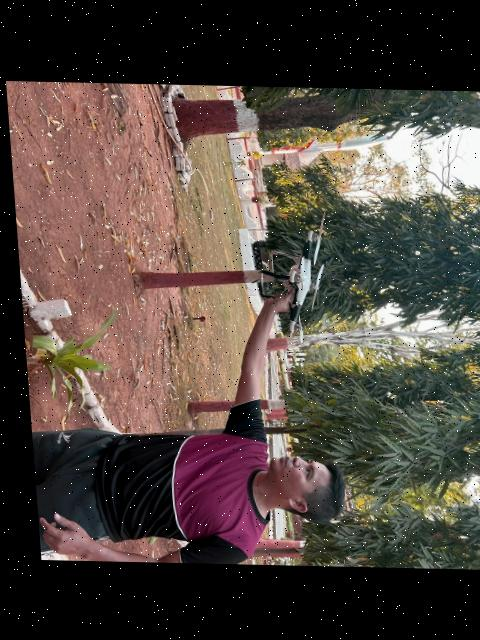drone: (243, 197, 337, 353)
